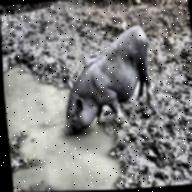boar: (51, 22, 157, 142)
